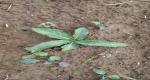bodyak: (25, 27, 129, 52)
